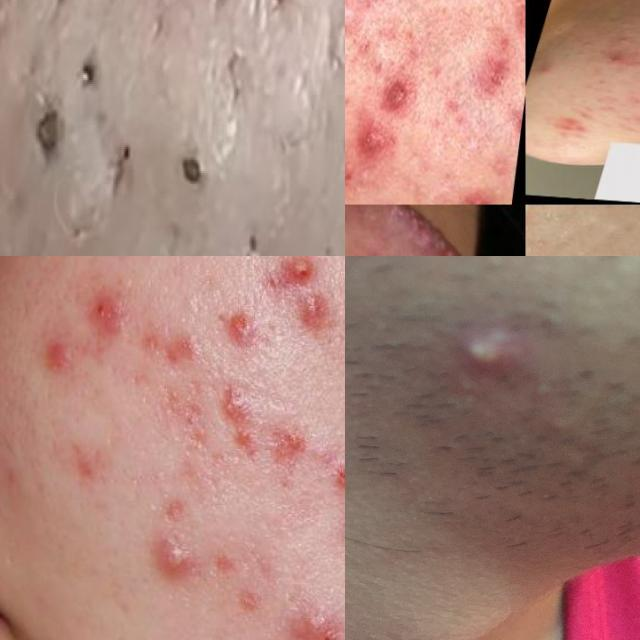acne_scars: (161, 394, 204, 464), (329, 455, 345, 549), (539, 112, 596, 135)
comedone: (21, 97, 74, 155), (73, 49, 108, 92), (174, 157, 207, 195), (567, 38, 605, 53), (628, 24, 640, 36)
papule: (345, 0, 423, 53), (345, 109, 403, 173), (285, 280, 343, 344), (471, 38, 525, 106), (41, 328, 77, 398), (373, 65, 422, 111), (273, 256, 331, 292), (298, 605, 345, 640), (93, 284, 120, 341), (228, 321, 258, 366), (461, 175, 498, 205), (345, 147, 360, 194), (531, 61, 560, 79), (608, 35, 634, 48)
pustule: (134, 526, 224, 596), (597, 51, 634, 69)
sebo-crystan-conglo: (351, 204, 477, 256)
